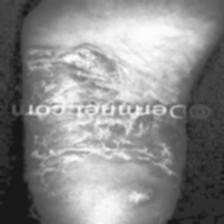Non-Cancerous Skin Condition: (17, 40, 182, 224)
